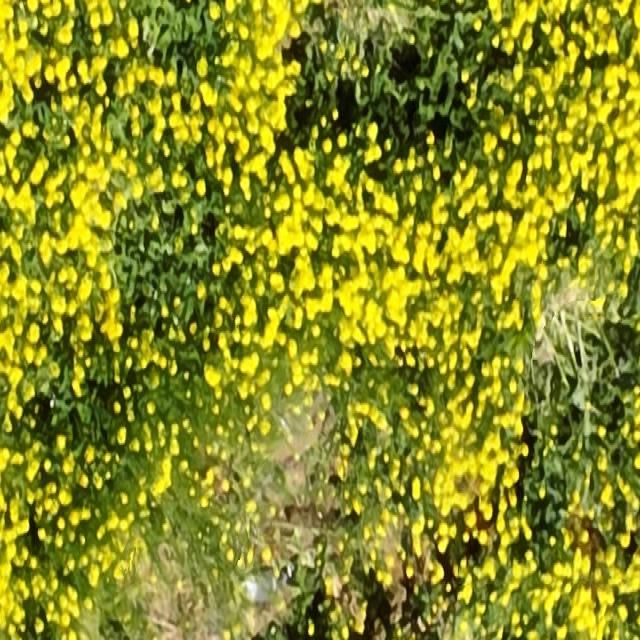umineko: (239, 563, 289, 604)
